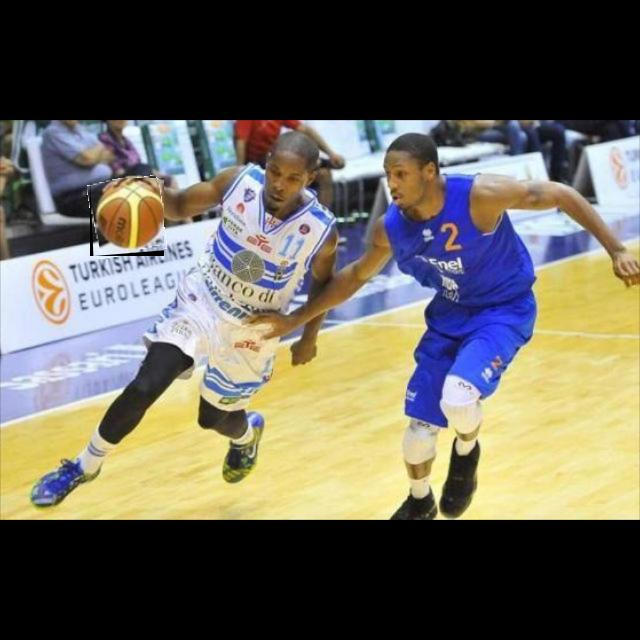Football: (90, 178, 164, 256)
